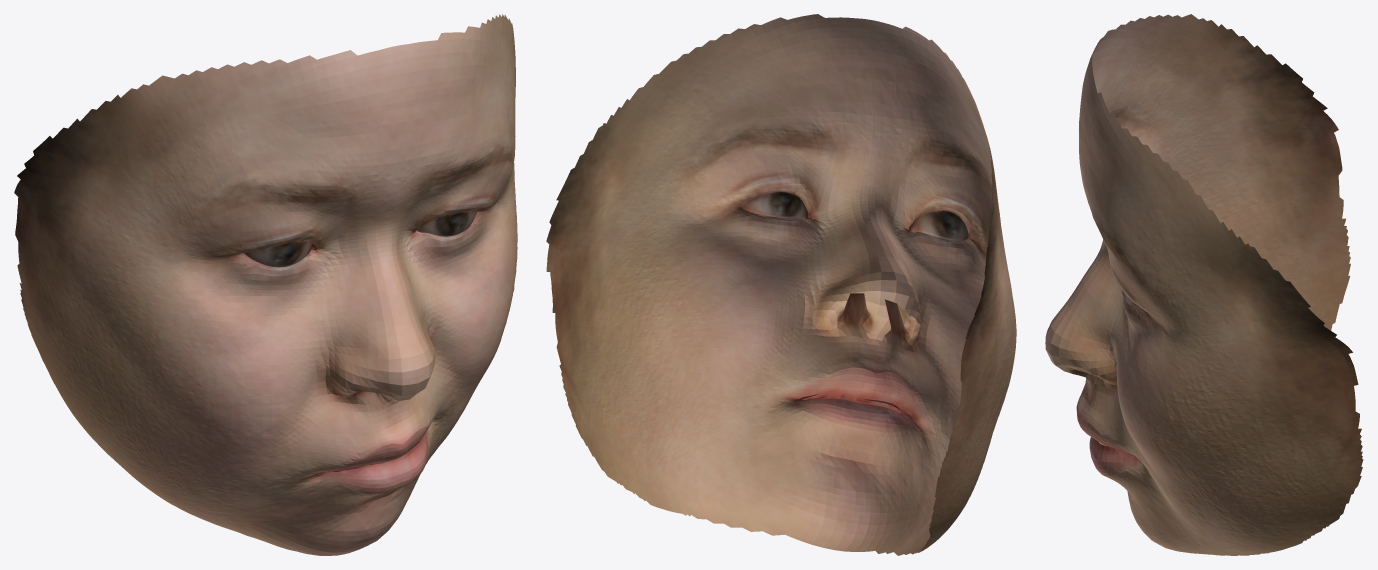
File: 1_pcaTex.obj
3 views of the same model, side by side, from view 1: azimuth 30°, elevation 25°; view 2: azimuth 150°, elevation 25°; view 3: azimuth 270°, elevation 25° (orthographic). The views are drawn at different scales.
Bounding box in the file's own units: 1.5 × 1.66 × 0.9902.
